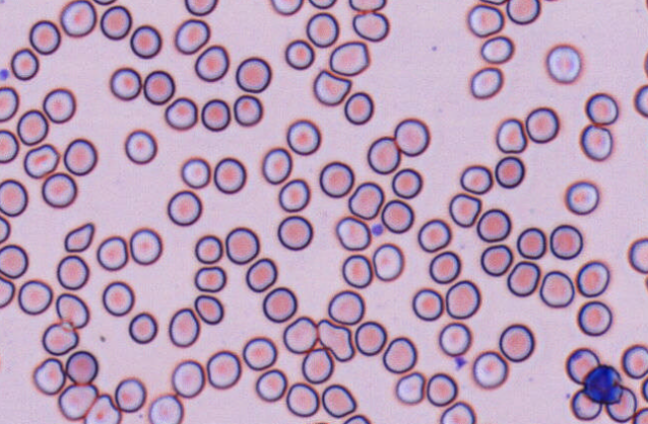PLT: (371, 222, 384, 237), (0, 67, 10, 84)
RBC: (57, 383, 98, 420), (329, 40, 369, 76), (472, 350, 508, 389), (498, 323, 534, 362), (393, 117, 429, 156), (445, 279, 480, 319), (206, 350, 241, 389), (546, 44, 581, 83), (327, 289, 364, 325), (60, 0, 96, 37), (282, 315, 317, 353), (348, 181, 383, 219), (171, 359, 205, 398), (174, 18, 210, 54), (576, 300, 612, 336), (235, 56, 271, 92), (41, 172, 77, 208), (565, 347, 600, 384), (17, 278, 52, 315), (194, 44, 229, 81), (539, 270, 574, 307), (167, 189, 202, 226), (225, 226, 259, 264), (366, 136, 400, 174), (168, 307, 200, 347), (23, 143, 59, 178), (262, 286, 297, 322), (319, 161, 354, 197), (41, 321, 78, 355), (575, 260, 609, 297), (382, 336, 416, 373), (63, 138, 97, 175), (32, 357, 65, 395), (129, 227, 162, 265), (372, 242, 404, 281), (321, 383, 356, 418), (564, 180, 599, 215), (277, 215, 312, 250), (55, 292, 89, 328), (506, 260, 540, 296), (467, 3, 503, 37), (286, 119, 320, 155), (525, 106, 558, 143), (285, 382, 319, 417), (242, 336, 277, 370), (335, 216, 370, 250), (305, 12, 339, 47), (56, 254, 89, 290), (42, 87, 75, 123), (213, 157, 246, 193), (605, 385, 637, 422), (580, 124, 612, 161), (417, 218, 451, 252), (476, 208, 510, 242), (65, 350, 98, 385), (438, 321, 471, 356), (549, 224, 582, 259), (301, 347, 333, 383), (354, 320, 386, 356), (16, 109, 48, 145), (102, 280, 134, 316), (352, 11, 389, 42), (261, 147, 292, 184), (83, 393, 121, 423), (381, 199, 414, 233), (448, 193, 481, 227), (114, 377, 146, 412), (245, 257, 277, 292), (96, 235, 128, 270), (124, 129, 156, 164), (495, 117, 526, 153), (569, 388, 602, 421), (164, 97, 197, 130), (585, 92, 618, 125), (469, 66, 502, 99), (255, 368, 287, 402), (411, 287, 443, 321), (278, 178, 310, 212), (29, 19, 60, 54), (428, 250, 460, 283), (109, 67, 141, 100), (426, 372, 457, 406), (341, 254, 372, 288), (100, 5, 131, 39), (130, 24, 161, 58), (143, 70, 174, 104), (0, 178, 27, 216), (480, 244, 512, 276), (394, 371, 425, 404), (148, 394, 183, 423), (391, 167, 422, 199), (459, 164, 492, 194), (494, 155, 524, 188), (344, 91, 373, 125), (0, 243, 28, 278), (516, 227, 546, 259), (128, 311, 157, 344), (201, 98, 230, 131), (180, 157, 210, 188), (10, 48, 39, 80), (233, 94, 262, 126), (480, 35, 513, 63), (621, 344, 647, 379), (284, 39, 314, 69), (194, 294, 223, 324), (194, 234, 223, 264), (194, 265, 226, 292), (506, 0, 540, 24), (439, 401, 475, 423), (627, 236, 647, 273), (0, 128, 19, 163), (0, 85, 18, 121), (184, 0, 217, 16), (0, 275, 15, 308), (270, 0, 303, 15), (633, 84, 647, 117), (348, 0, 386, 12), (0, 215, 10, 243), (632, 406, 647, 423), (342, 414, 370, 423), (308, 0, 336, 9), (640, 375, 648, 402), (643, 47, 648, 78), (477, 0, 507, 5), (92, 0, 117, 5), (643, 273, 648, 293), (306, 421, 333, 424), (0, 346, 2, 375), (542, 0, 564, 2), (644, 0, 648, 11)
Schistocyte: (318, 318, 354, 360), (314, 69, 352, 107), (63, 221, 96, 253)
